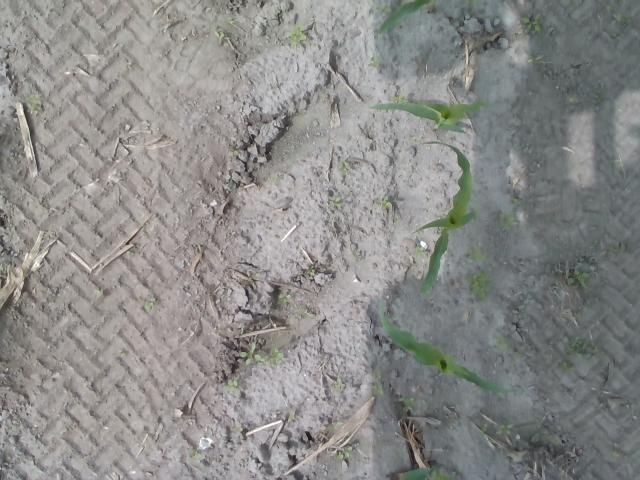Maize: (377, 301, 519, 398), (418, 140, 479, 296), (366, 96, 495, 134), (374, 0, 440, 35), (386, 456, 454, 480)
Weeds: (559, 336, 598, 376), (467, 245, 492, 302), (239, 342, 285, 366), (566, 266, 592, 289), (286, 20, 308, 46), (481, 421, 514, 438), (494, 209, 518, 232), (521, 13, 542, 33), (496, 336, 514, 354), (608, 243, 628, 259), (372, 372, 385, 396), (379, 197, 394, 215), (220, 379, 238, 393), (276, 292, 293, 306), (27, 94, 41, 111), (144, 295, 158, 311), (336, 446, 353, 459), (328, 194, 342, 209), (402, 394, 415, 410), (326, 421, 344, 431), (374, 4, 393, 13), (216, 28, 226, 45), (337, 160, 349, 174), (370, 54, 379, 67), (510, 194, 520, 205), (306, 265, 316, 276), (415, 247, 425, 257), (396, 95, 407, 104)
